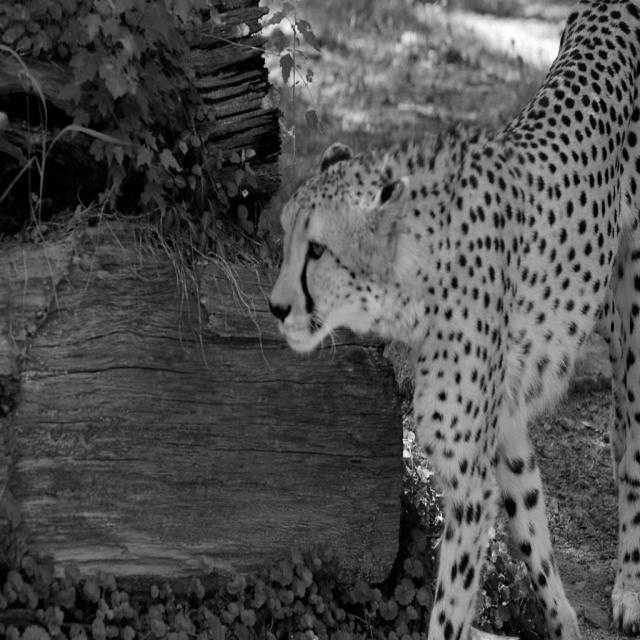Cheetah: (267, 0, 639, 639), (270, 0, 640, 639)
